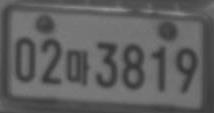0: (14, 36, 36, 82)
1: (149, 46, 170, 91)
2: (40, 38, 62, 84)
3: (95, 41, 117, 87)
8: (122, 44, 145, 89)
9: (175, 47, 198, 92)
마: (66, 49, 91, 85)
